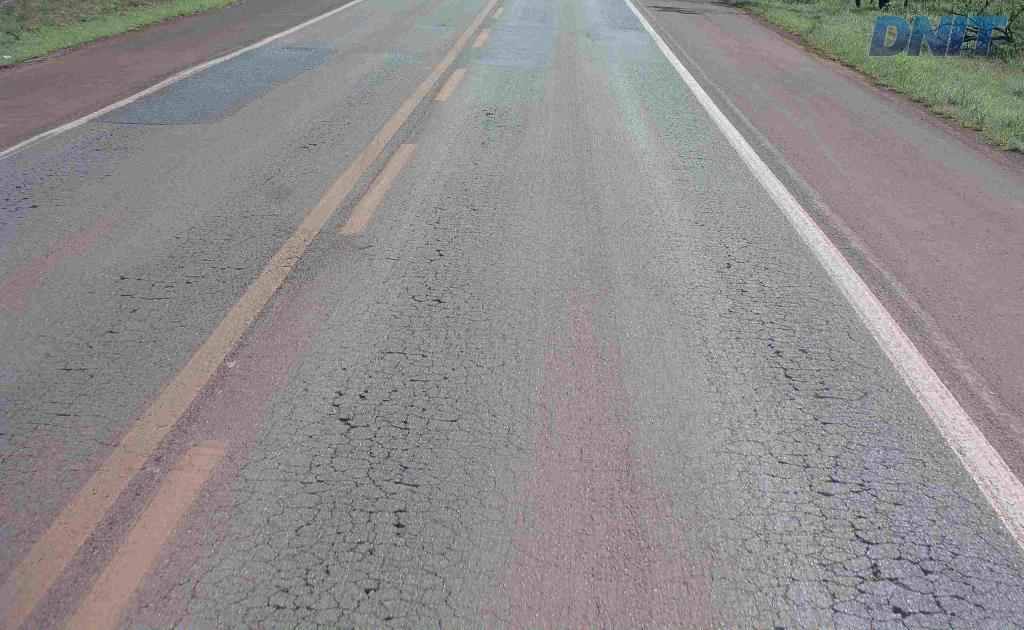crack: (848, 521, 944, 601)
